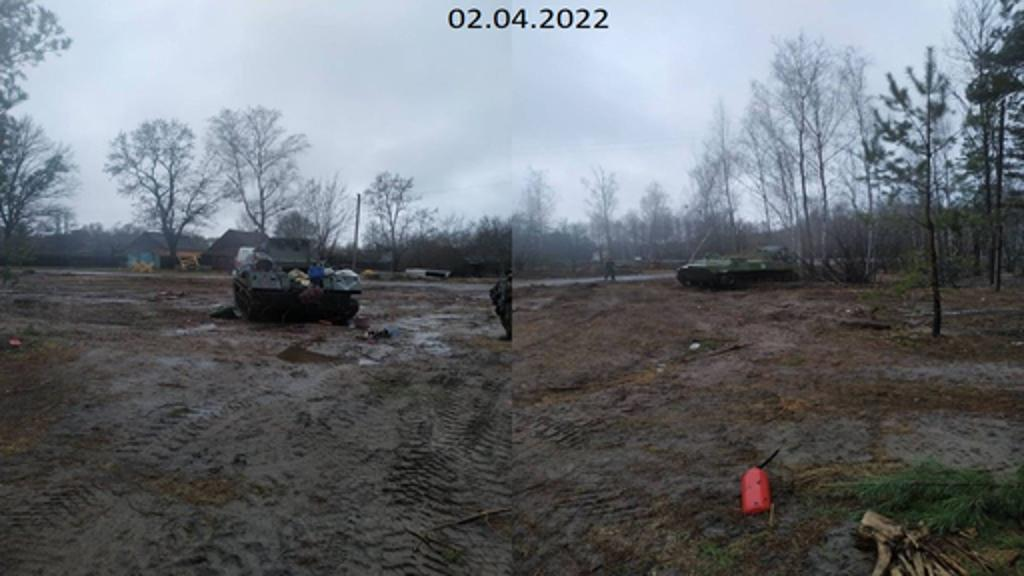APC-IFV: (224, 224, 366, 328), (670, 244, 804, 290)
